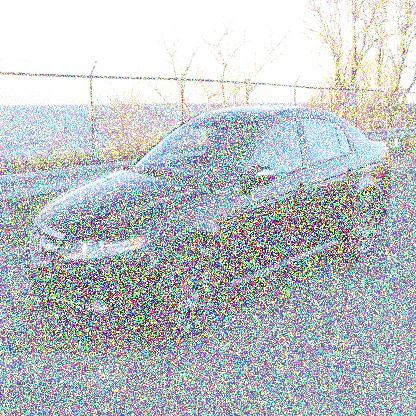Vehicle: (25, 102, 393, 344)
